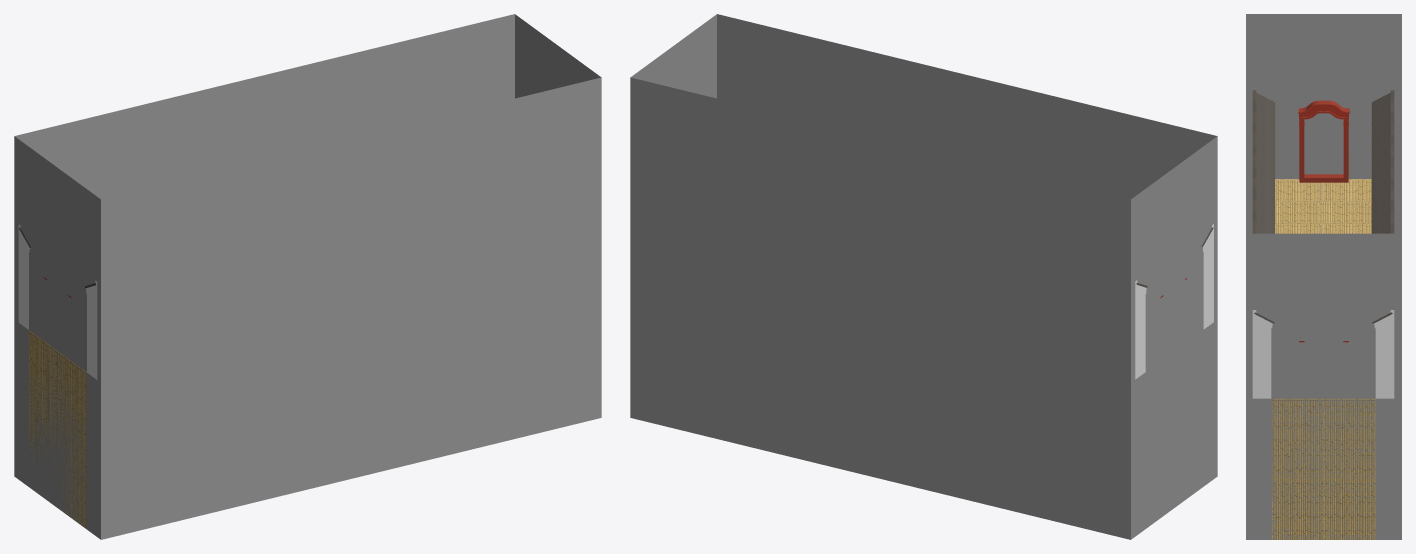
Rendered from Floor_1.5_01.fbx.
The picture shows the model from 3 angles, left to right: view 1: azimuth 30°, elevation 25°; view 2: azimuth 150°, elevation 25°; view 3: azimuth 270°, elevation 25°; orthographic projection. The views are drawn at different scales.
Parts seen in each view (by area): view 1: pCube12, polySurface90, Platform_00, polySurface92, polySurface122, polySurface91, ChineseWall12, ChineseWall7; view 2: pCube12, ChineseWall12, ChineseWall7; view 3: pCube12, polySurface210, polySurface209, polySurface202, polySurface211, polySurface200, polySurface201, ChineseWall7 (×2), doorStart_01, ChineseWall11, ChineseWall1 (×2), ChineseWall (×2) (+13 smaller).
Boxes of the visible parts, left/top/right/bottom form: pCube12: left=14, top=14, right=601, bottom=539; polySurface90: left=57, top=351, right=86, bottom=424; Platform_00: left=29, top=330, right=57, bottom=402; polySurface92: left=57, top=404, right=86, bottom=476; polySurface122: left=29, top=383, right=57, bottom=452; polySurface91: left=58, top=456, right=86, bottom=528; ChineseWall12: left=18, top=224, right=30, bottom=329; ChineseWall7: left=85, top=280, right=97, bottom=379; pCube12: left=630, top=14, right=1217, bottom=539; ChineseWall12: left=1135, top=280, right=1147, bottom=379; ChineseWall7: left=1201, top=224, right=1213, bottom=329; pCube12: left=1246, top=14, right=1401, bottom=539; polySurface210: left=1324, top=445, right=1375, bottom=492; polySurface209: left=1324, top=493, right=1375, bottom=539; polySurface202: left=1272, top=398, right=1323, bottom=445; polySurface211: left=1324, top=398, right=1375, bottom=445; polySurface200: left=1272, top=493, right=1323, bottom=539; polySurface201: left=1272, top=445, right=1323, bottom=492; ChineseWall7 (×2): left=1252, top=90, right=1394, bottom=398; doorStart_01: left=1298, top=100, right=1349, bottom=182; ChineseWall11: left=1252, top=310, right=1274, bottom=398; ChineseWall1 (×2): left=1252, top=178, right=1394, bottom=233; ChineseWall (×2): left=1252, top=178, right=1394, bottom=233.
Bounding box in the file's own units: 20.04 × 13 × 6.
